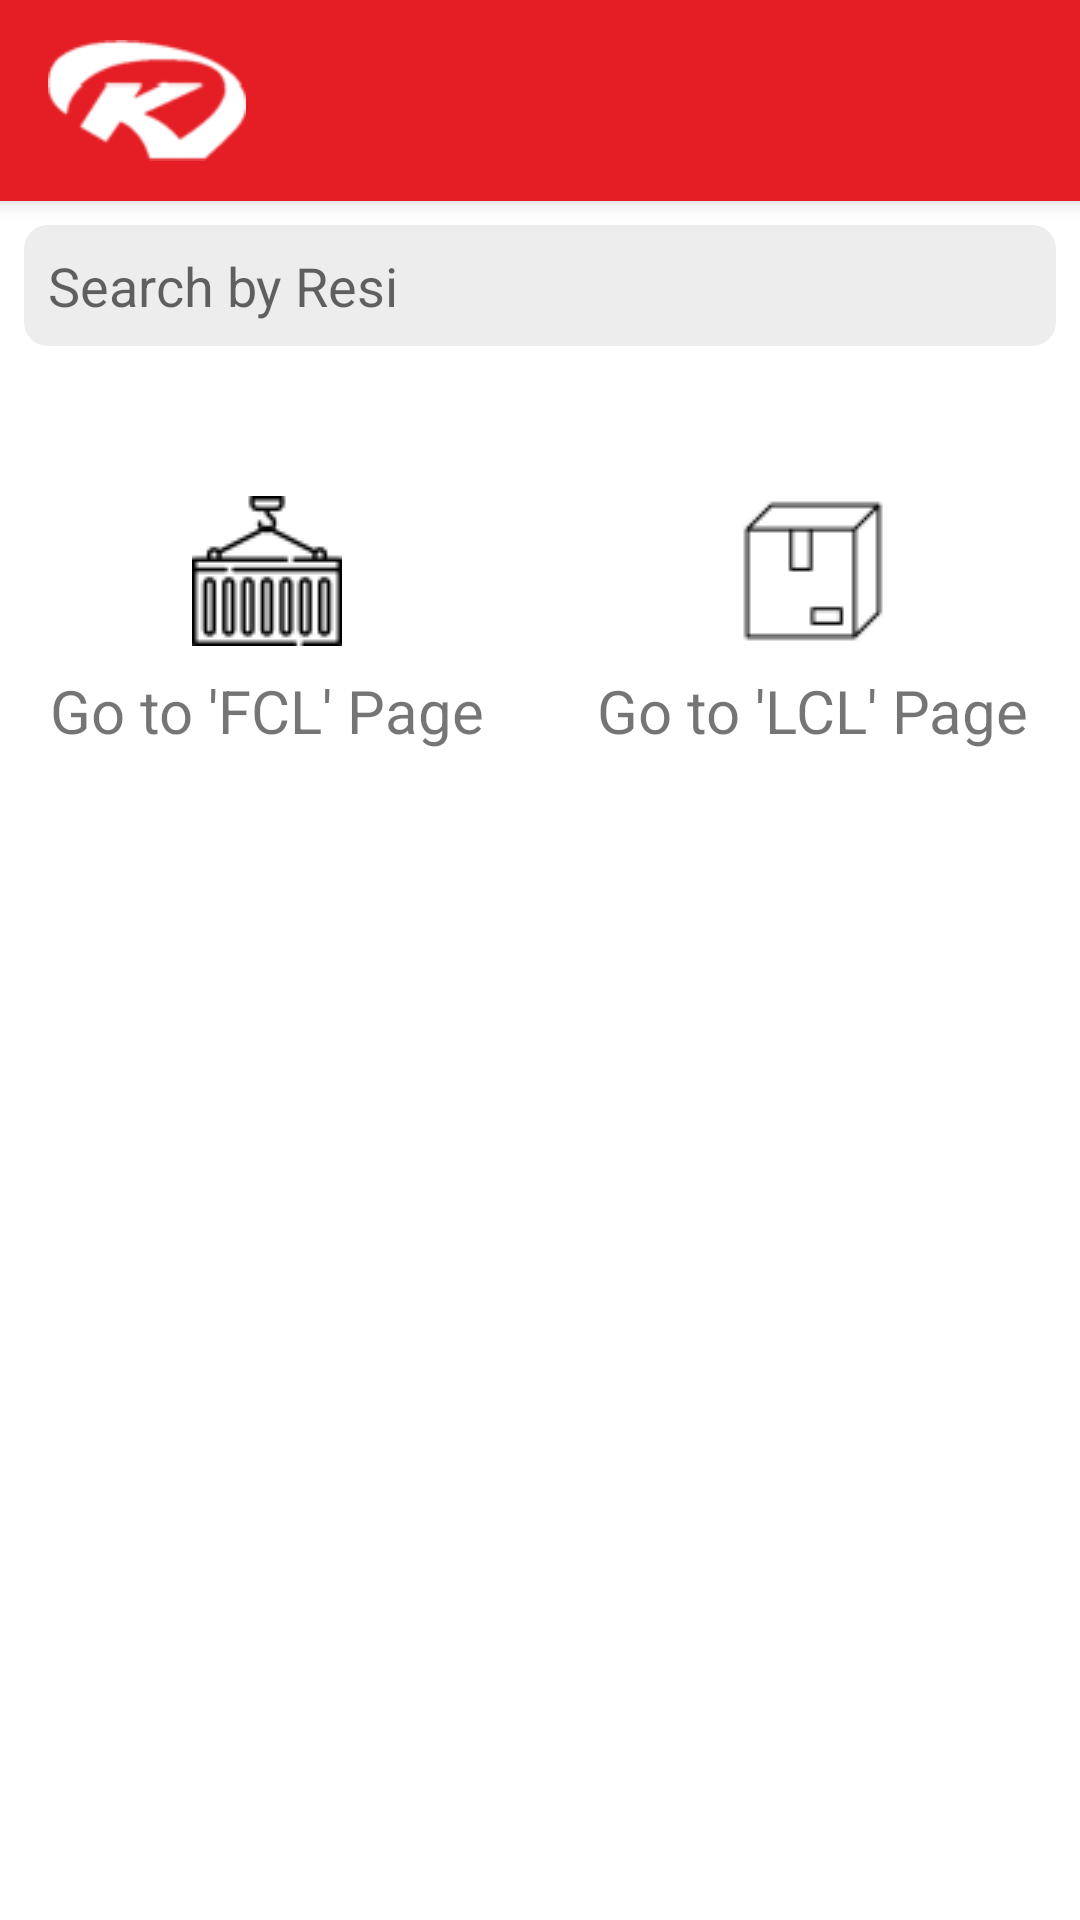

Where to tap for icons on this 1080*1920 app screen, as (x=x, y=y):
box: (x=813, y=571)
container: (x=267, y=571)
